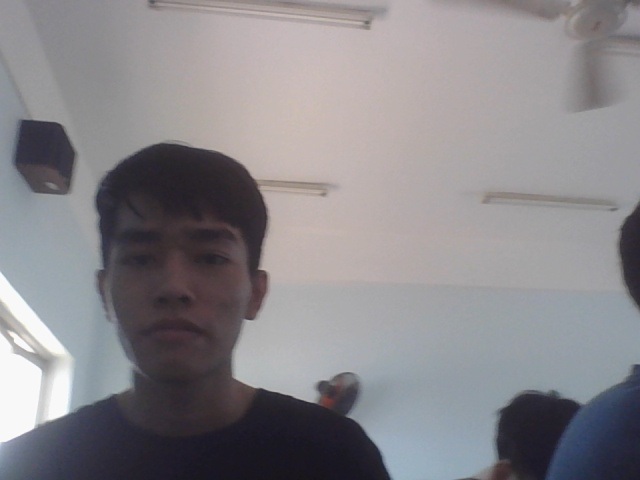real: (85, 125, 275, 395)
